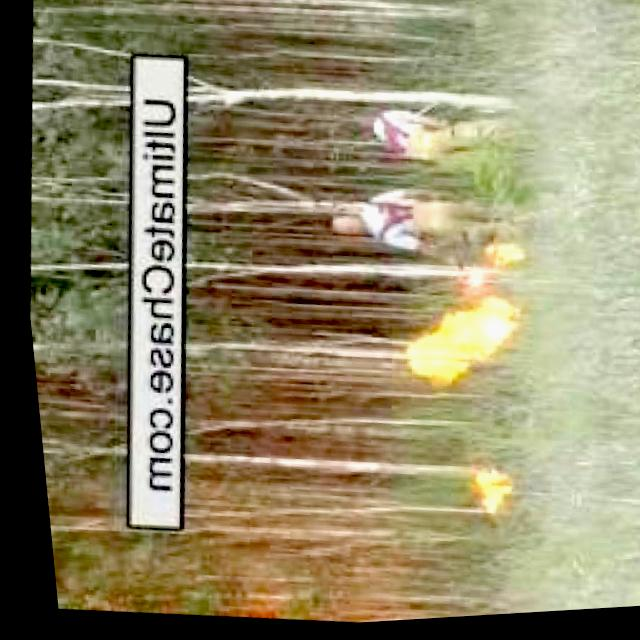Fire: (388, 290, 515, 401), (457, 236, 527, 301), (456, 470, 509, 519)
